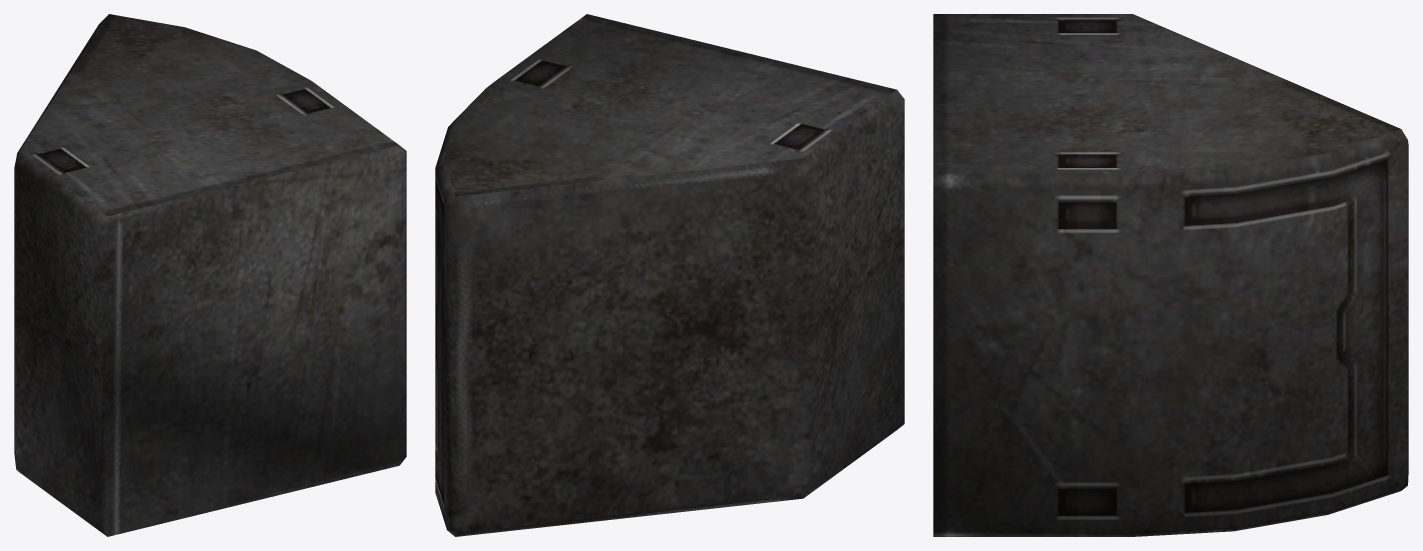
File: girder_lab_turn_45.dae
The picture shows the model from 3 angles, left to right: view 1: azimuth 30°, elevation 25°; view 2: azimuth 150°, elevation 25°; view 3: azimuth 270°, elevation 25°; orthographic projection. The views are drawn at different scales.
Visible parts, largest first — view 1: pCube12; view 2: pCube12; view 3: pCube12.
Part boxes in pixels (x1=…): pCube12: x1=14, y1=14, x2=406, y2=536; pCube12: x1=435, y1=14, x2=904, y2=536; pCube12: x1=933, y1=14, x2=1408, y2=536.
Bounding box in the file's own units: 0.25 × 0.25 × 0.2977.
